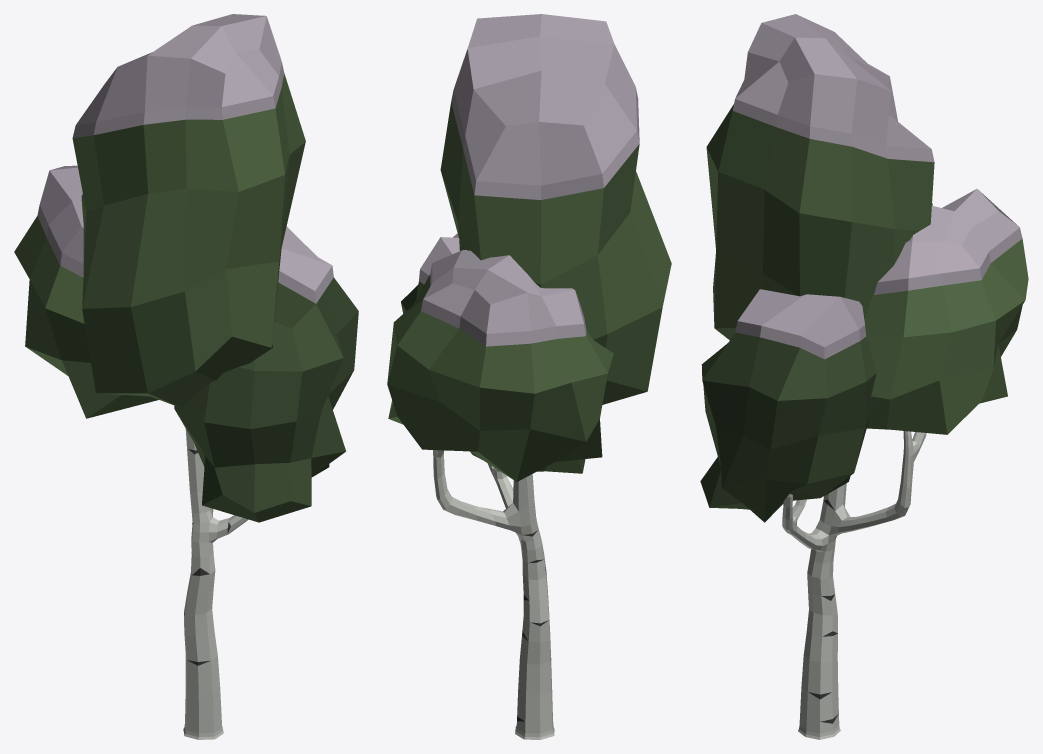
Rendered from BirchTree_Snow_3-transformed.glb.
The picture shows the model from 3 angles, left to right: view 1: azimuth 30°, elevation 25°; view 2: azimuth 150°, elevation 25°; view 3: azimuth 270°, elevation 25°; orthographic projection. The views are drawn at different scales.
Parts seen in each view (by area): view 1: BirchTree_Snow_3; view 2: BirchTree_Snow_3; view 3: BirchTree_Snow_3.
Part boxes in pixels (x1,y1,x2,y2): BirchTree_Snow_3: (14, 14, 358, 739); BirchTree_Snow_3: (387, 14, 671, 739); BirchTree_Snow_3: (700, 14, 1028, 739).
Size of the model in its own units: 1.57 by 4.15 by 1.77.
Materials: 1 (1 with a texture image).
